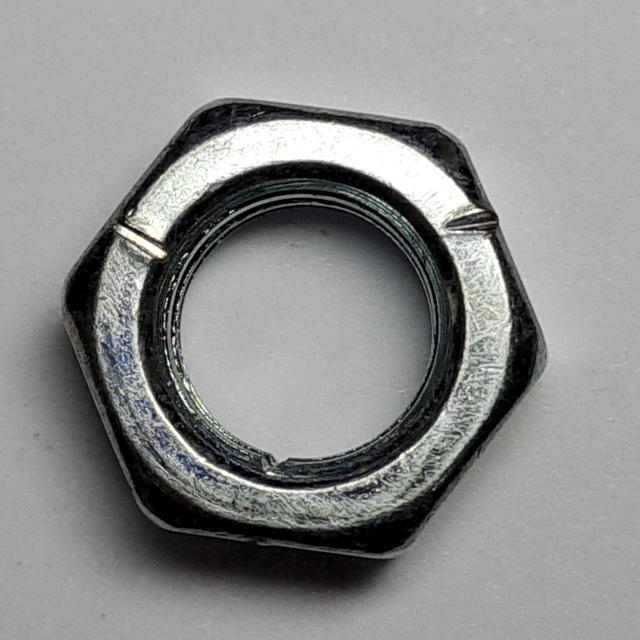Scratches: (53, 89, 559, 578)
